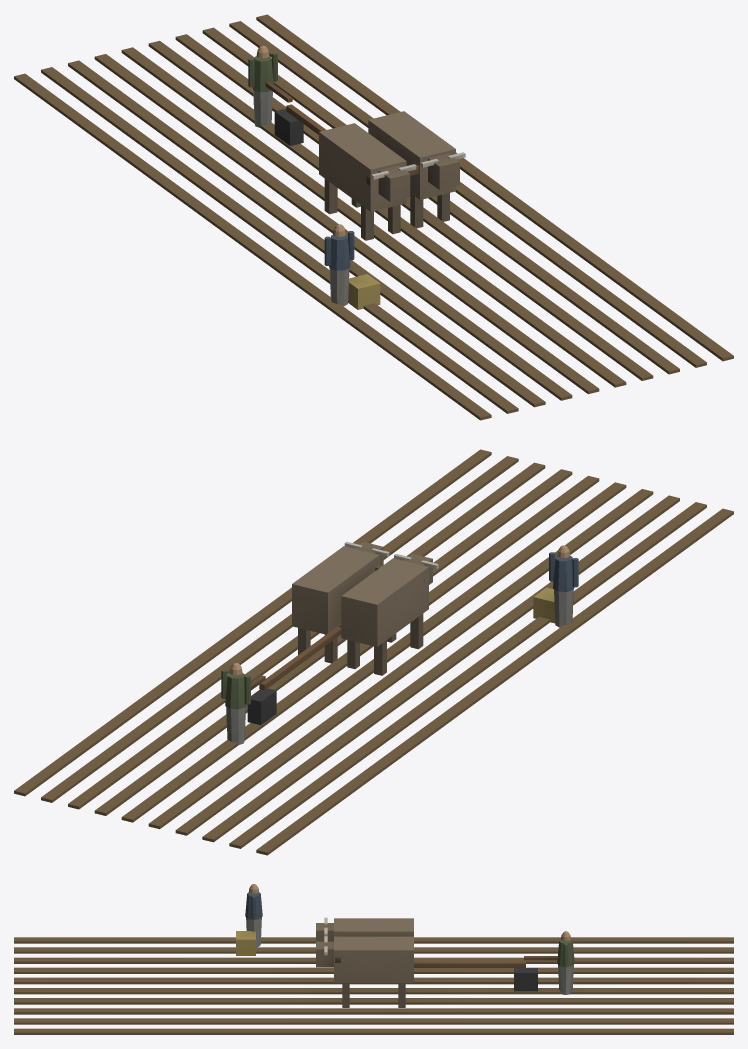
The model's file is farmer.glb.
The picture shows the model from 3 angles, top to bottom: view 1: azimuth 30°, elevation 25°; view 2: azimuth 150°, elevation 25°; view 3: azimuth 270°, elevation 25°; orthographic projection. The views are drawn at different scales.
Visible parts, largest first — view 1: base, anim_walk; view 2: base, anim_walk; view 3: base, anim_walk.
Part boxes in pixels (box(x1,y1,x2,y2)): base: box(14, 14, 733, 420); anim_walk: box(248, 45, 465, 240); base: box(14, 449, 733, 855); anim_walk: box(221, 541, 438, 744); base: box(14, 884, 733, 1034); anim_walk: box(316, 917, 574, 1007).
Size of the model in its own units: 5.65 by 1.68 by 18.
